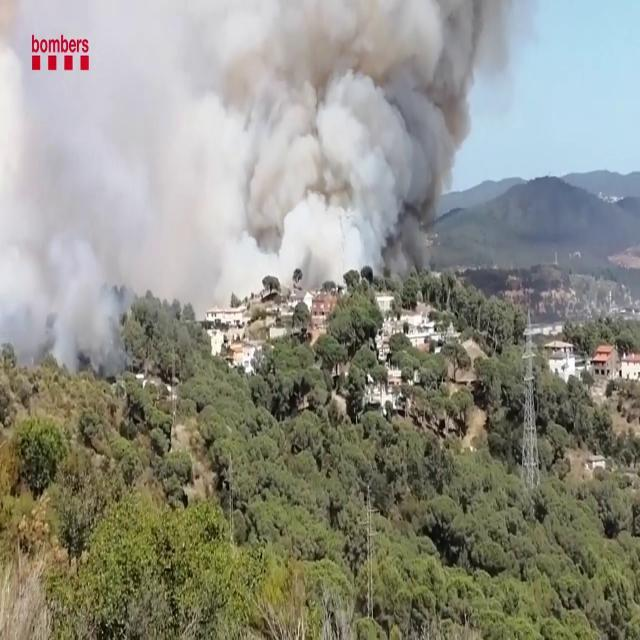Smoke: (1, 0, 528, 327)
